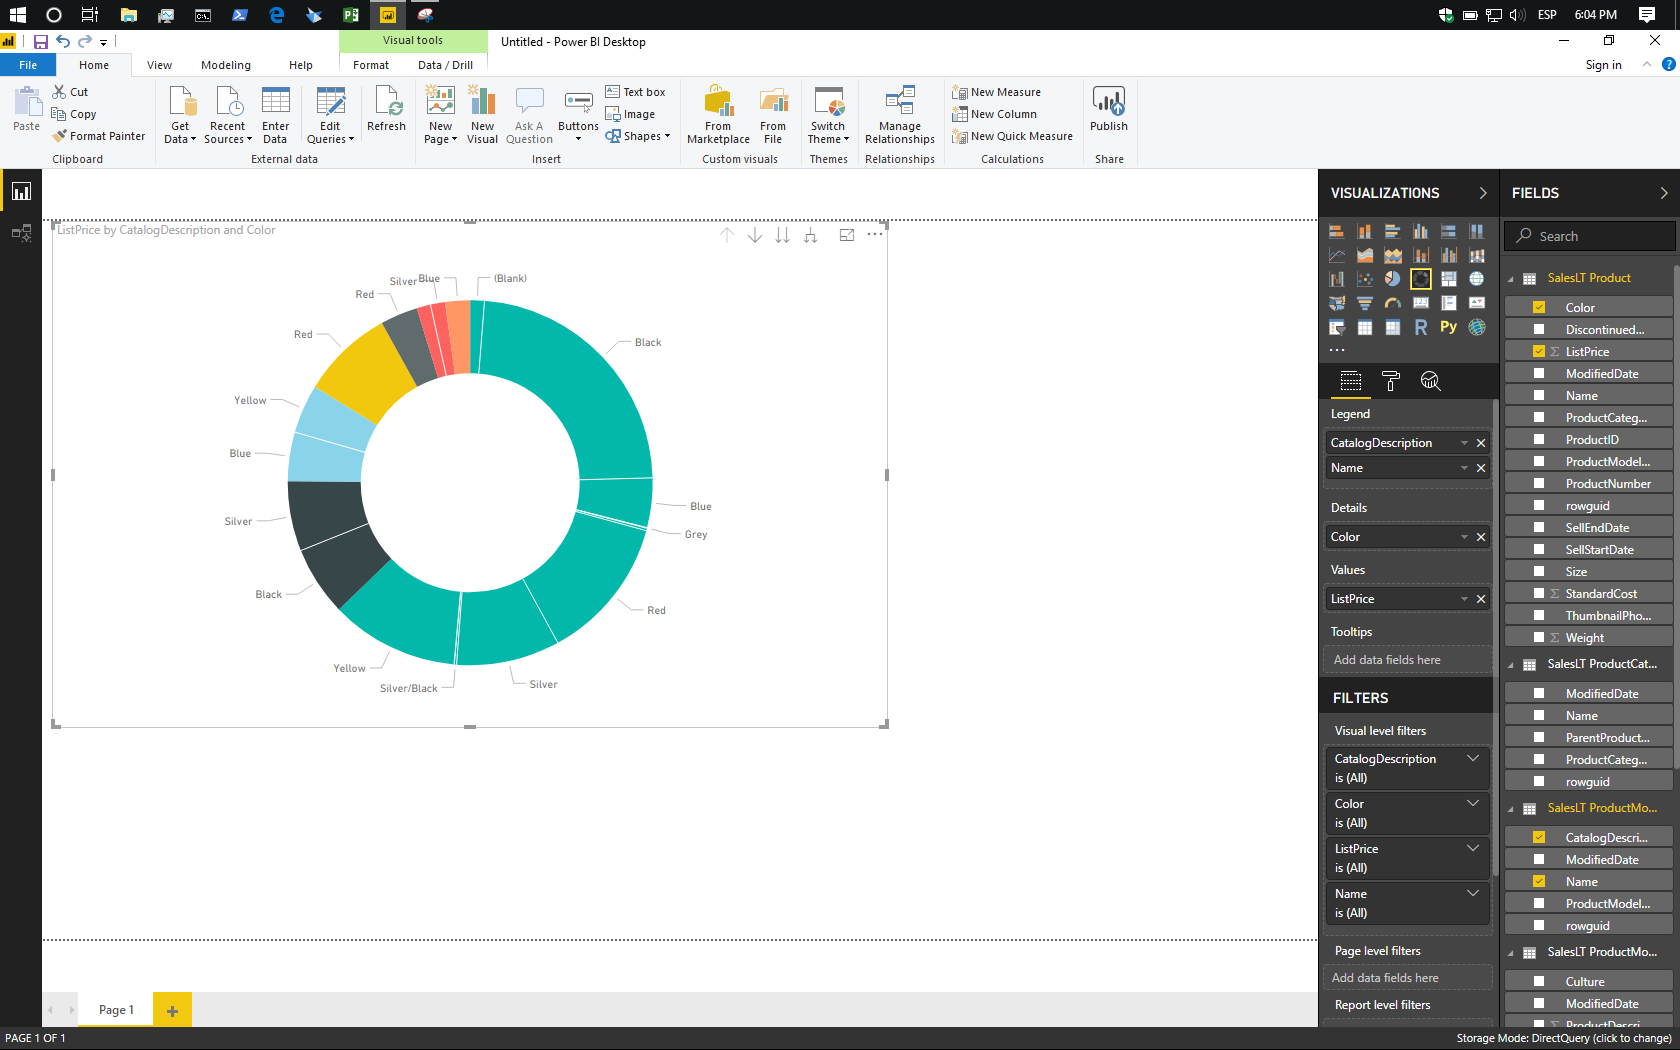

The dashboard page shown, as its layout file describes it:
{"tool":"powerbi","page":{"name":"Page 1","canvas":[1280,720],"ordinal":0},"visuals":[{"type":"donutChart","fields":{"Category":["SalesLT ProductModel.CatalogDescription","SalesLT ProductModel.Name"],"Series":["SalesLT Product.Color"],"Y":["Sum(SalesLT Product.ListPrice)"]},"box":[10,0,838.6,508.6],"z":1}]}

Visuals, with their boxes on the page's 1280x720 design canvas (x1, y1, x2, y2). These are canvas units, not pixel positions in the 1680x1050 screenshot, which may show the page scaled, cropped or inside an application window:
donutChart - SalesLT ProductModel.CatalogDescription x SalesLT ProductModel.Name: [left=10, top=0, right=849, bottom=509]
